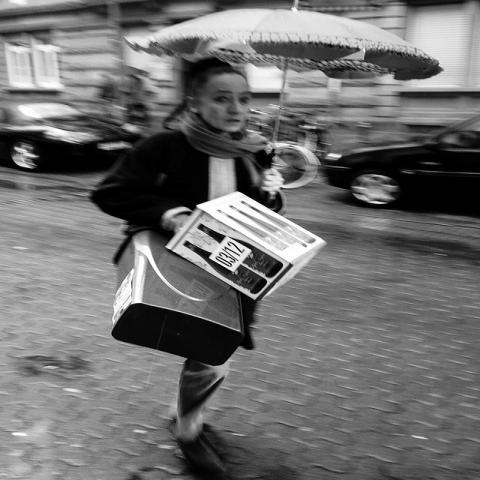car: (330, 111, 478, 210), (0, 98, 149, 171)
